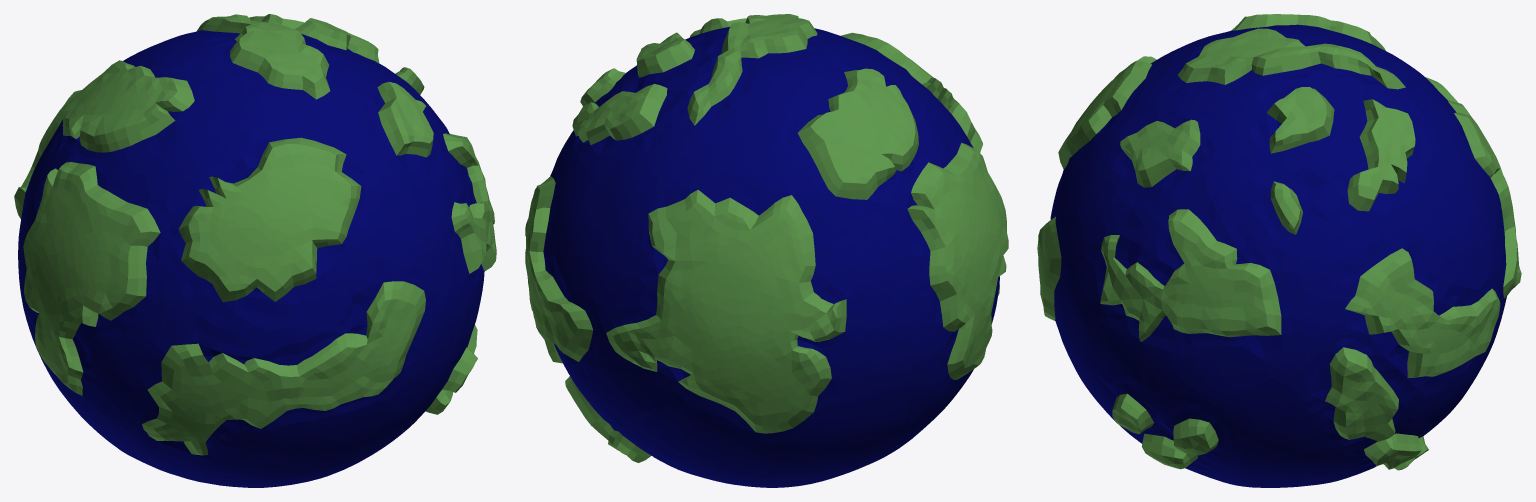
Rendered from Earth.fbx.
The picture shows the model from 3 angles, left to right: view 1: azimuth 30°, elevation 25°; view 2: azimuth 150°, elevation 25°; view 3: azimuth 270°, elevation 25°; orthographic projection.
Parts seen in each view (by area): view 1: Icosphere.003; view 2: Icosphere.003; view 3: Icosphere.003.
Part boxes in pixels (x1,y1,x2,y2): Icosphere.003: (14, 14, 496, 487); Icosphere.003: (525, 14, 1008, 487); Icosphere.003: (1037, 14, 1521, 487).
Bounding box in the file's own units: 12919 × 12716 × 12964.
